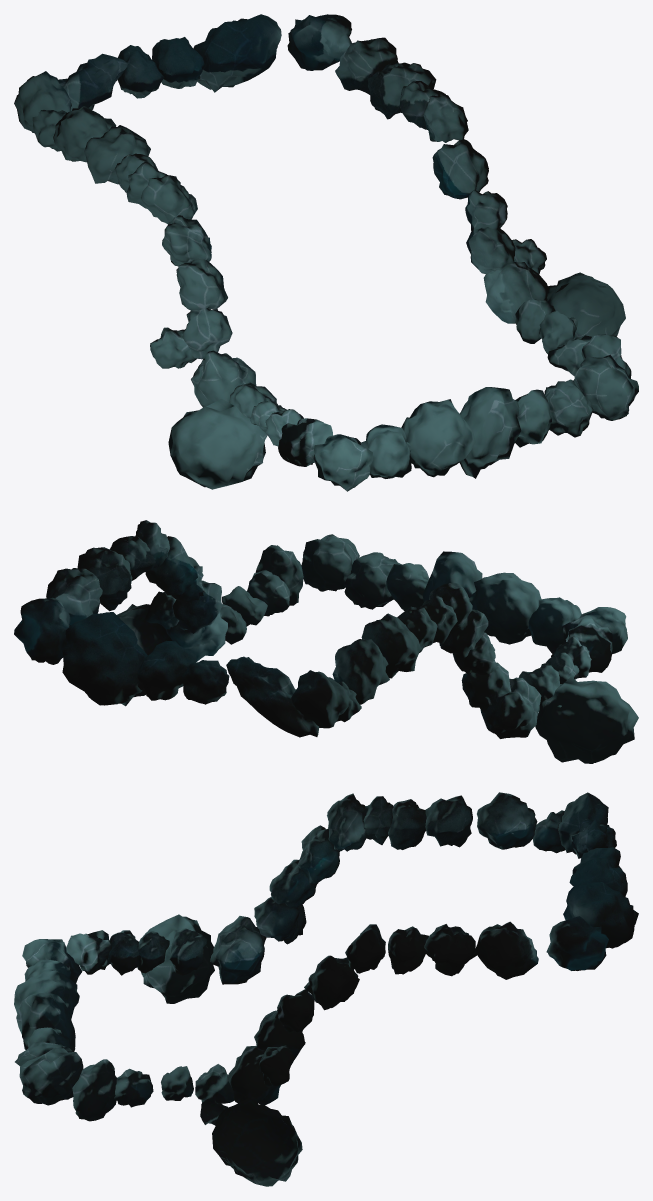
File: RocksModel.glb
3 renders of one model, top to bottom at view 1: azimuth 30°, elevation 25°; view 2: azimuth 150°, elevation 25°; view 3: azimuth 270°, elevation 25°, orthographic. The views are drawn at different scales.
Visible parts, largest first — view 1: Icosphere.045; view 2: Icosphere.045; view 3: Icosphere.045.
Part boxes in pixels (<box>): Icosphere.045: <box>14,14,638,491</box>; Icosphere.045: <box>14,520,638,763</box>; Icosphere.045: <box>14,792,638,1186</box>.
Bounding box in the file's own units: 47.63 × 23.36 × 57.19.
Materials: 1 (1 with a texture image).
